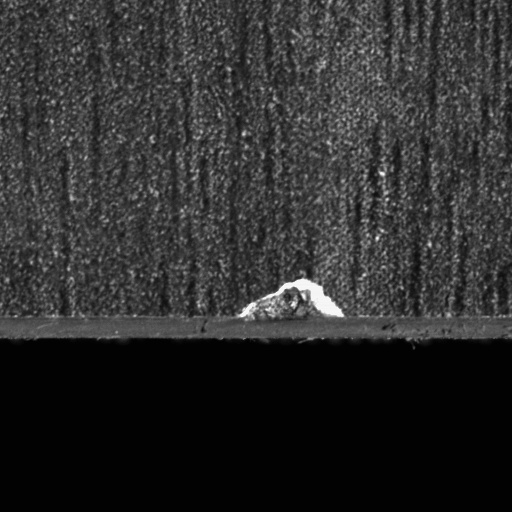bengque: (244, 285, 332, 316)
